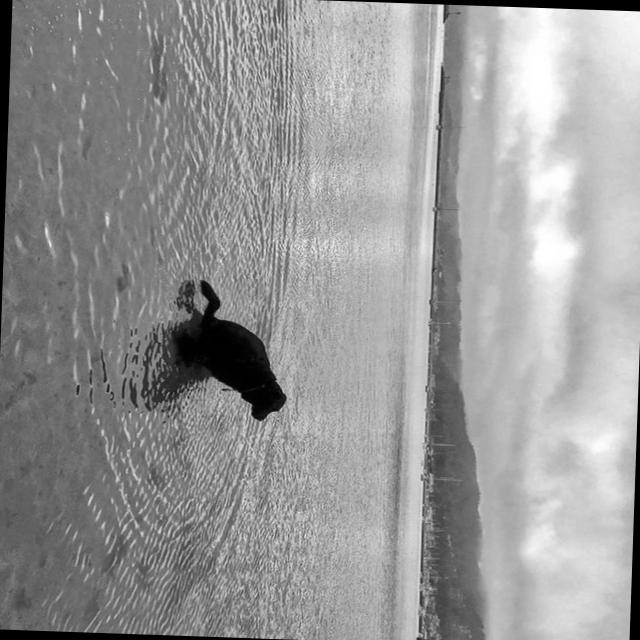squatting: (168, 275, 292, 425)
